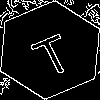T: (25, 25, 77, 80)
